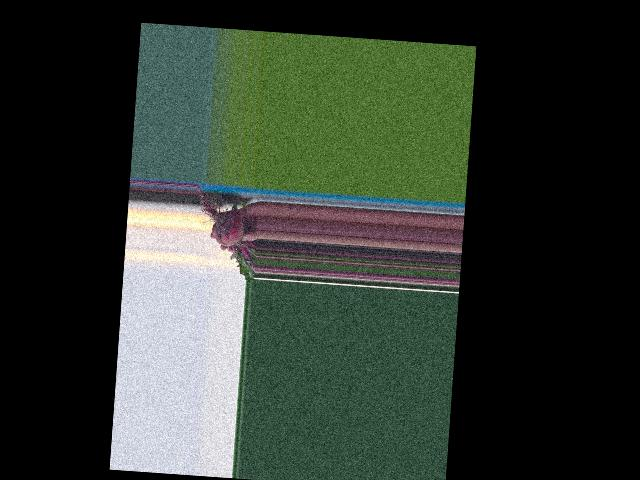beet: (190, 185, 260, 280)
